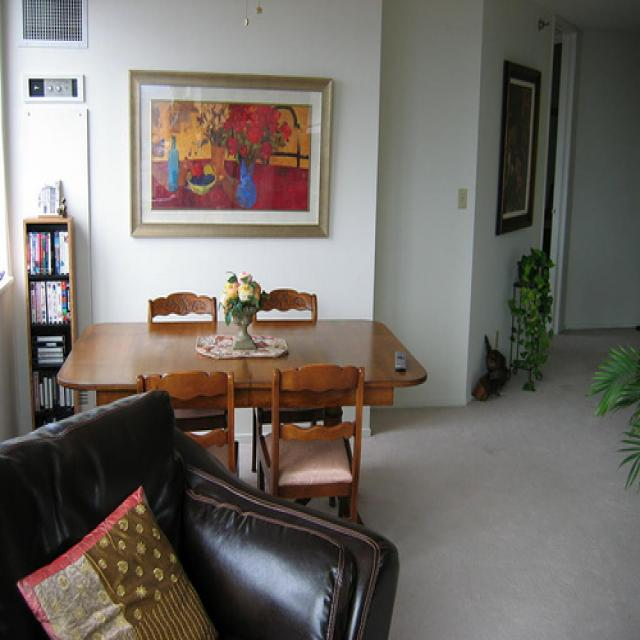chair: (253, 356, 365, 524), (135, 373, 236, 478), (146, 291, 219, 323), (254, 289, 318, 321)
dining table: (56, 319, 428, 413)
